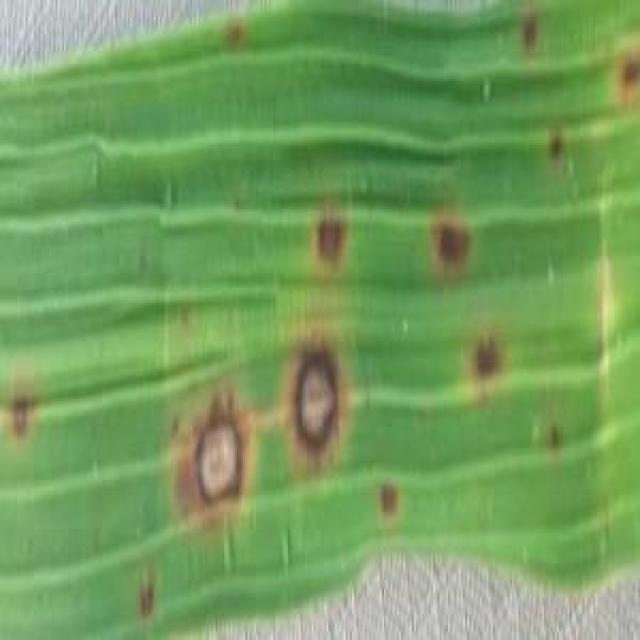Brown_Spot: (281, 333, 363, 466), (181, 394, 259, 520), (6, 386, 56, 440), (306, 210, 352, 268), (427, 211, 472, 269), (468, 336, 515, 387), (512, 18, 554, 61), (612, 43, 640, 102), (130, 578, 166, 622), (220, 25, 263, 54), (536, 130, 574, 162), (378, 485, 408, 519)
